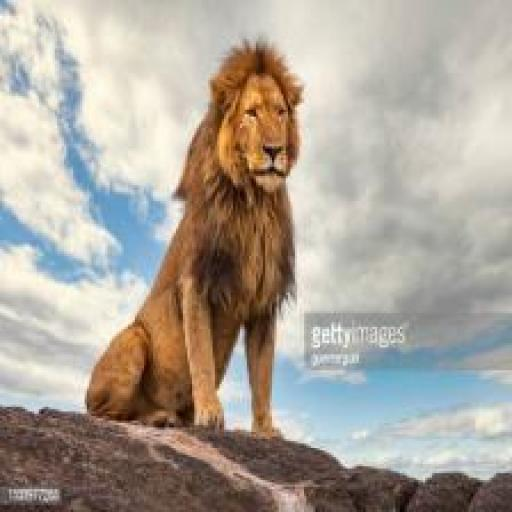lion: (84, 59, 311, 431)
